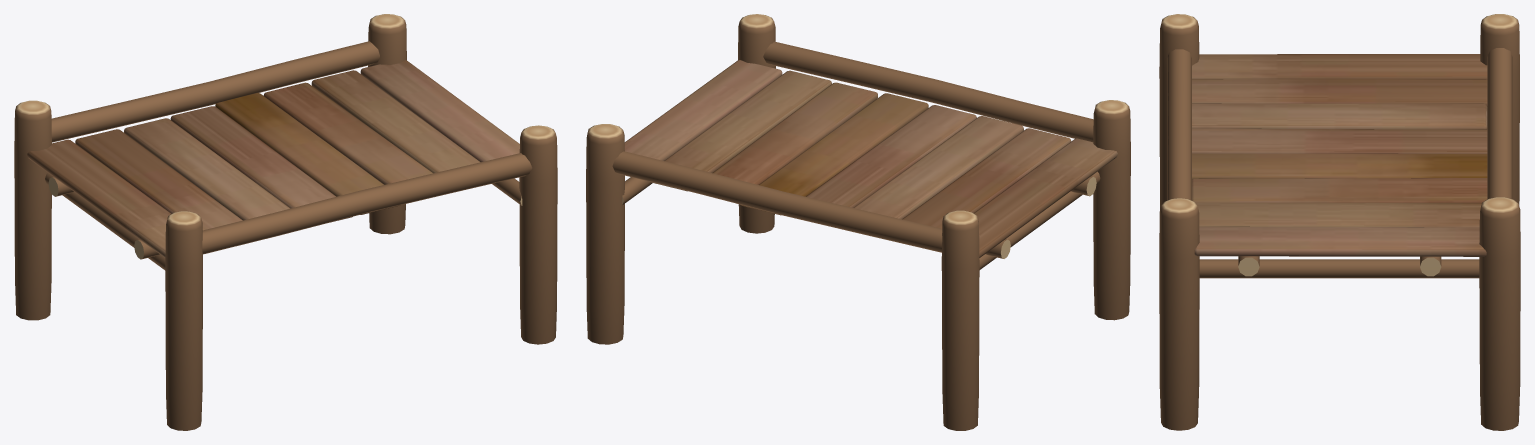
File: bridge-plank.glb
3 views of the same model, side by side, from view 1: azimuth 30°, elevation 25°; view 2: azimuth 150°, elevation 25°; view 3: azimuth 270°, elevation 25° (orthographic). The views are drawn at different scales.
Parts seen in each view (by area): view 1: bridge-plank; view 2: bridge-plank; view 3: bridge-plank.
Part boxes in pixels (x1=…): bridge-plank: x1=14, y1=14, x2=557, y2=430; bridge-plank: x1=586, y1=14, x2=1130, y2=430; bridge-plank: x1=1159, y1=14, x2=1520, y2=430.
Size of the model in its own units: 3.76 by 1.92 by 2.86.
2 materials, 1 textured.
